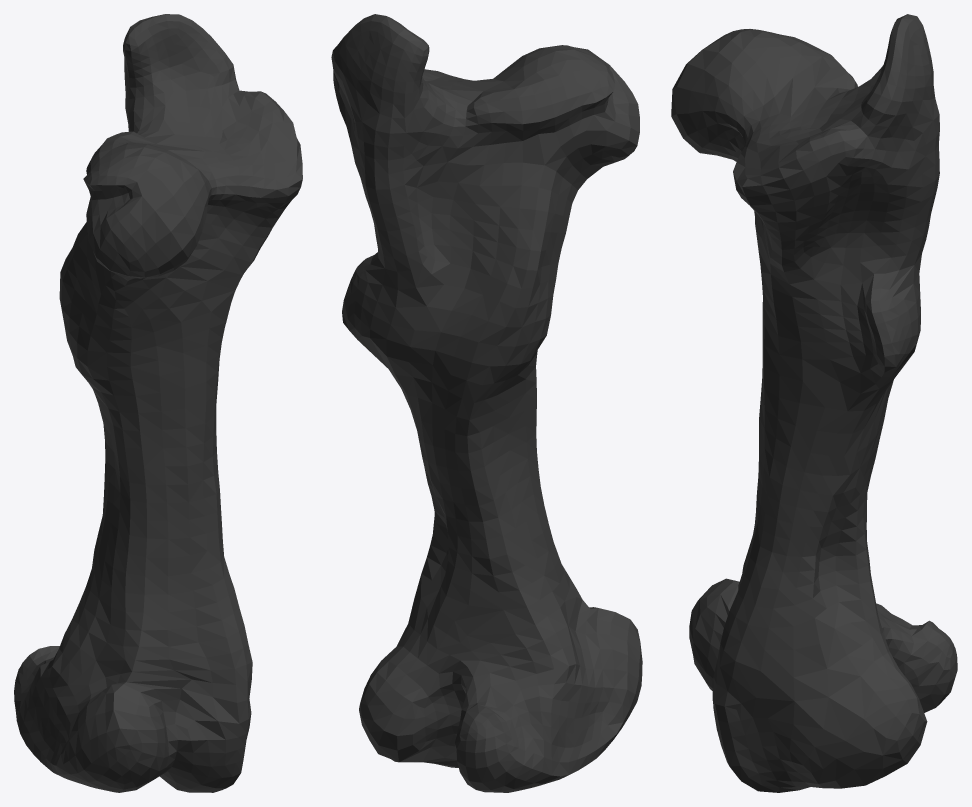
The model's file is Femur_L.glb.
3 views of the same model, side by side, from view 1: azimuth 30°, elevation 25°; view 2: azimuth 150°, elevation 25°; view 3: azimuth 270°, elevation 25° (orthographic). The views are drawn at different scales.
Parts seen in each view (by area): view 1: Femur_L; view 2: Femur_L; view 3: Femur_L.
Boxes of the visible parts, x1,y1,x2,y2 form: Femur_L: (14,14,302,792); Femur_L: (331,14,642,792); Femur_L: (671,14,957,792).
Bounding box in the file's own units: 0.2144 × 0.6139 × 0.2034.
1 material, 1 textured.
